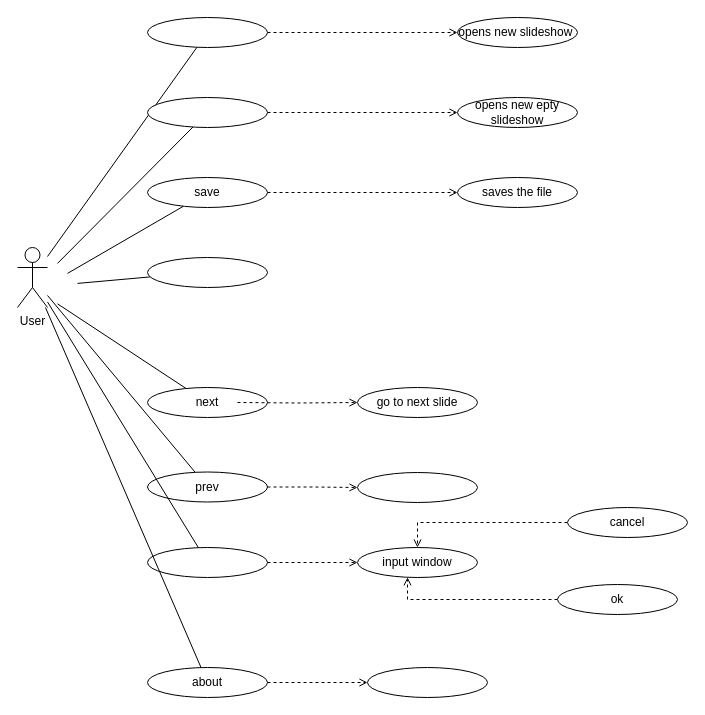
Image size: 705x715. Some labels were removed from this diagram. The centre of each missing label's shape, as x and y in pixels:
about us window: (427,682)
exit: (207,272)
go to: (207,562)
go to prev slide: (417,487)
new: (207,112)
open: (207,32)
